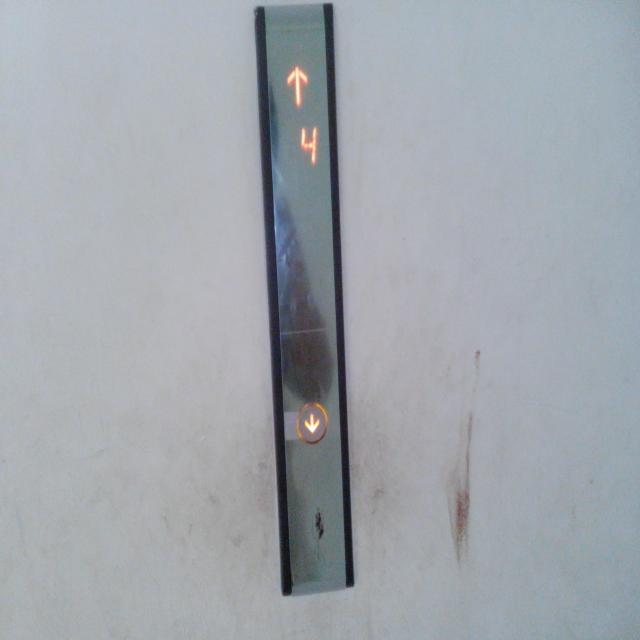down: (296, 402, 328, 444)
led: (260, 22, 336, 211)
